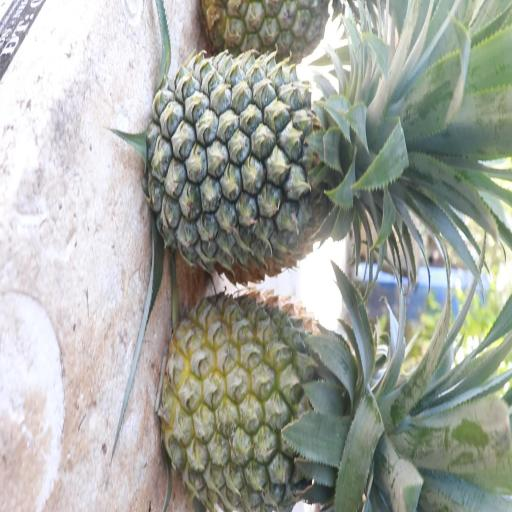------------------------------: (161, 282, 440, 512)
